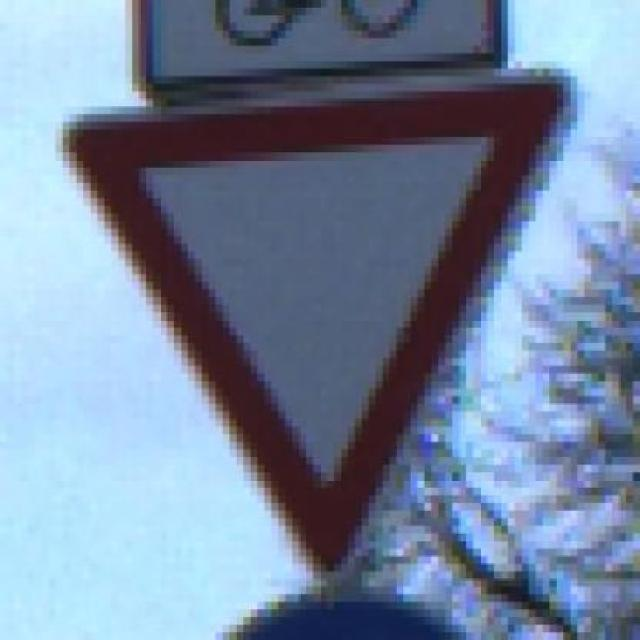Give Way: (46, 49, 611, 591)
